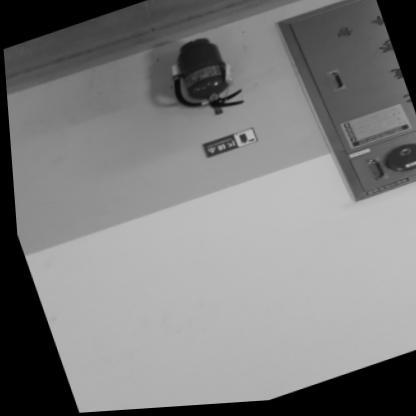FE: (158, 33, 246, 127)
